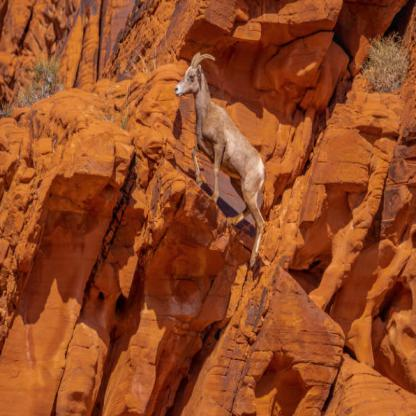Sedimentary_Sandstone: (37, 113, 130, 241), (264, 266, 337, 415), (144, 184, 225, 302), (308, 100, 376, 226), (130, 313, 211, 415), (262, 0, 347, 92), (0, 260, 53, 407), (0, 0, 79, 92), (348, 351, 416, 415), (62, 310, 105, 406), (373, 258, 415, 344), (185, 0, 238, 55)
